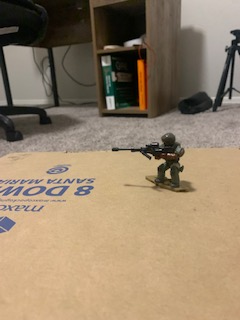soldier: (113, 131, 189, 190)
